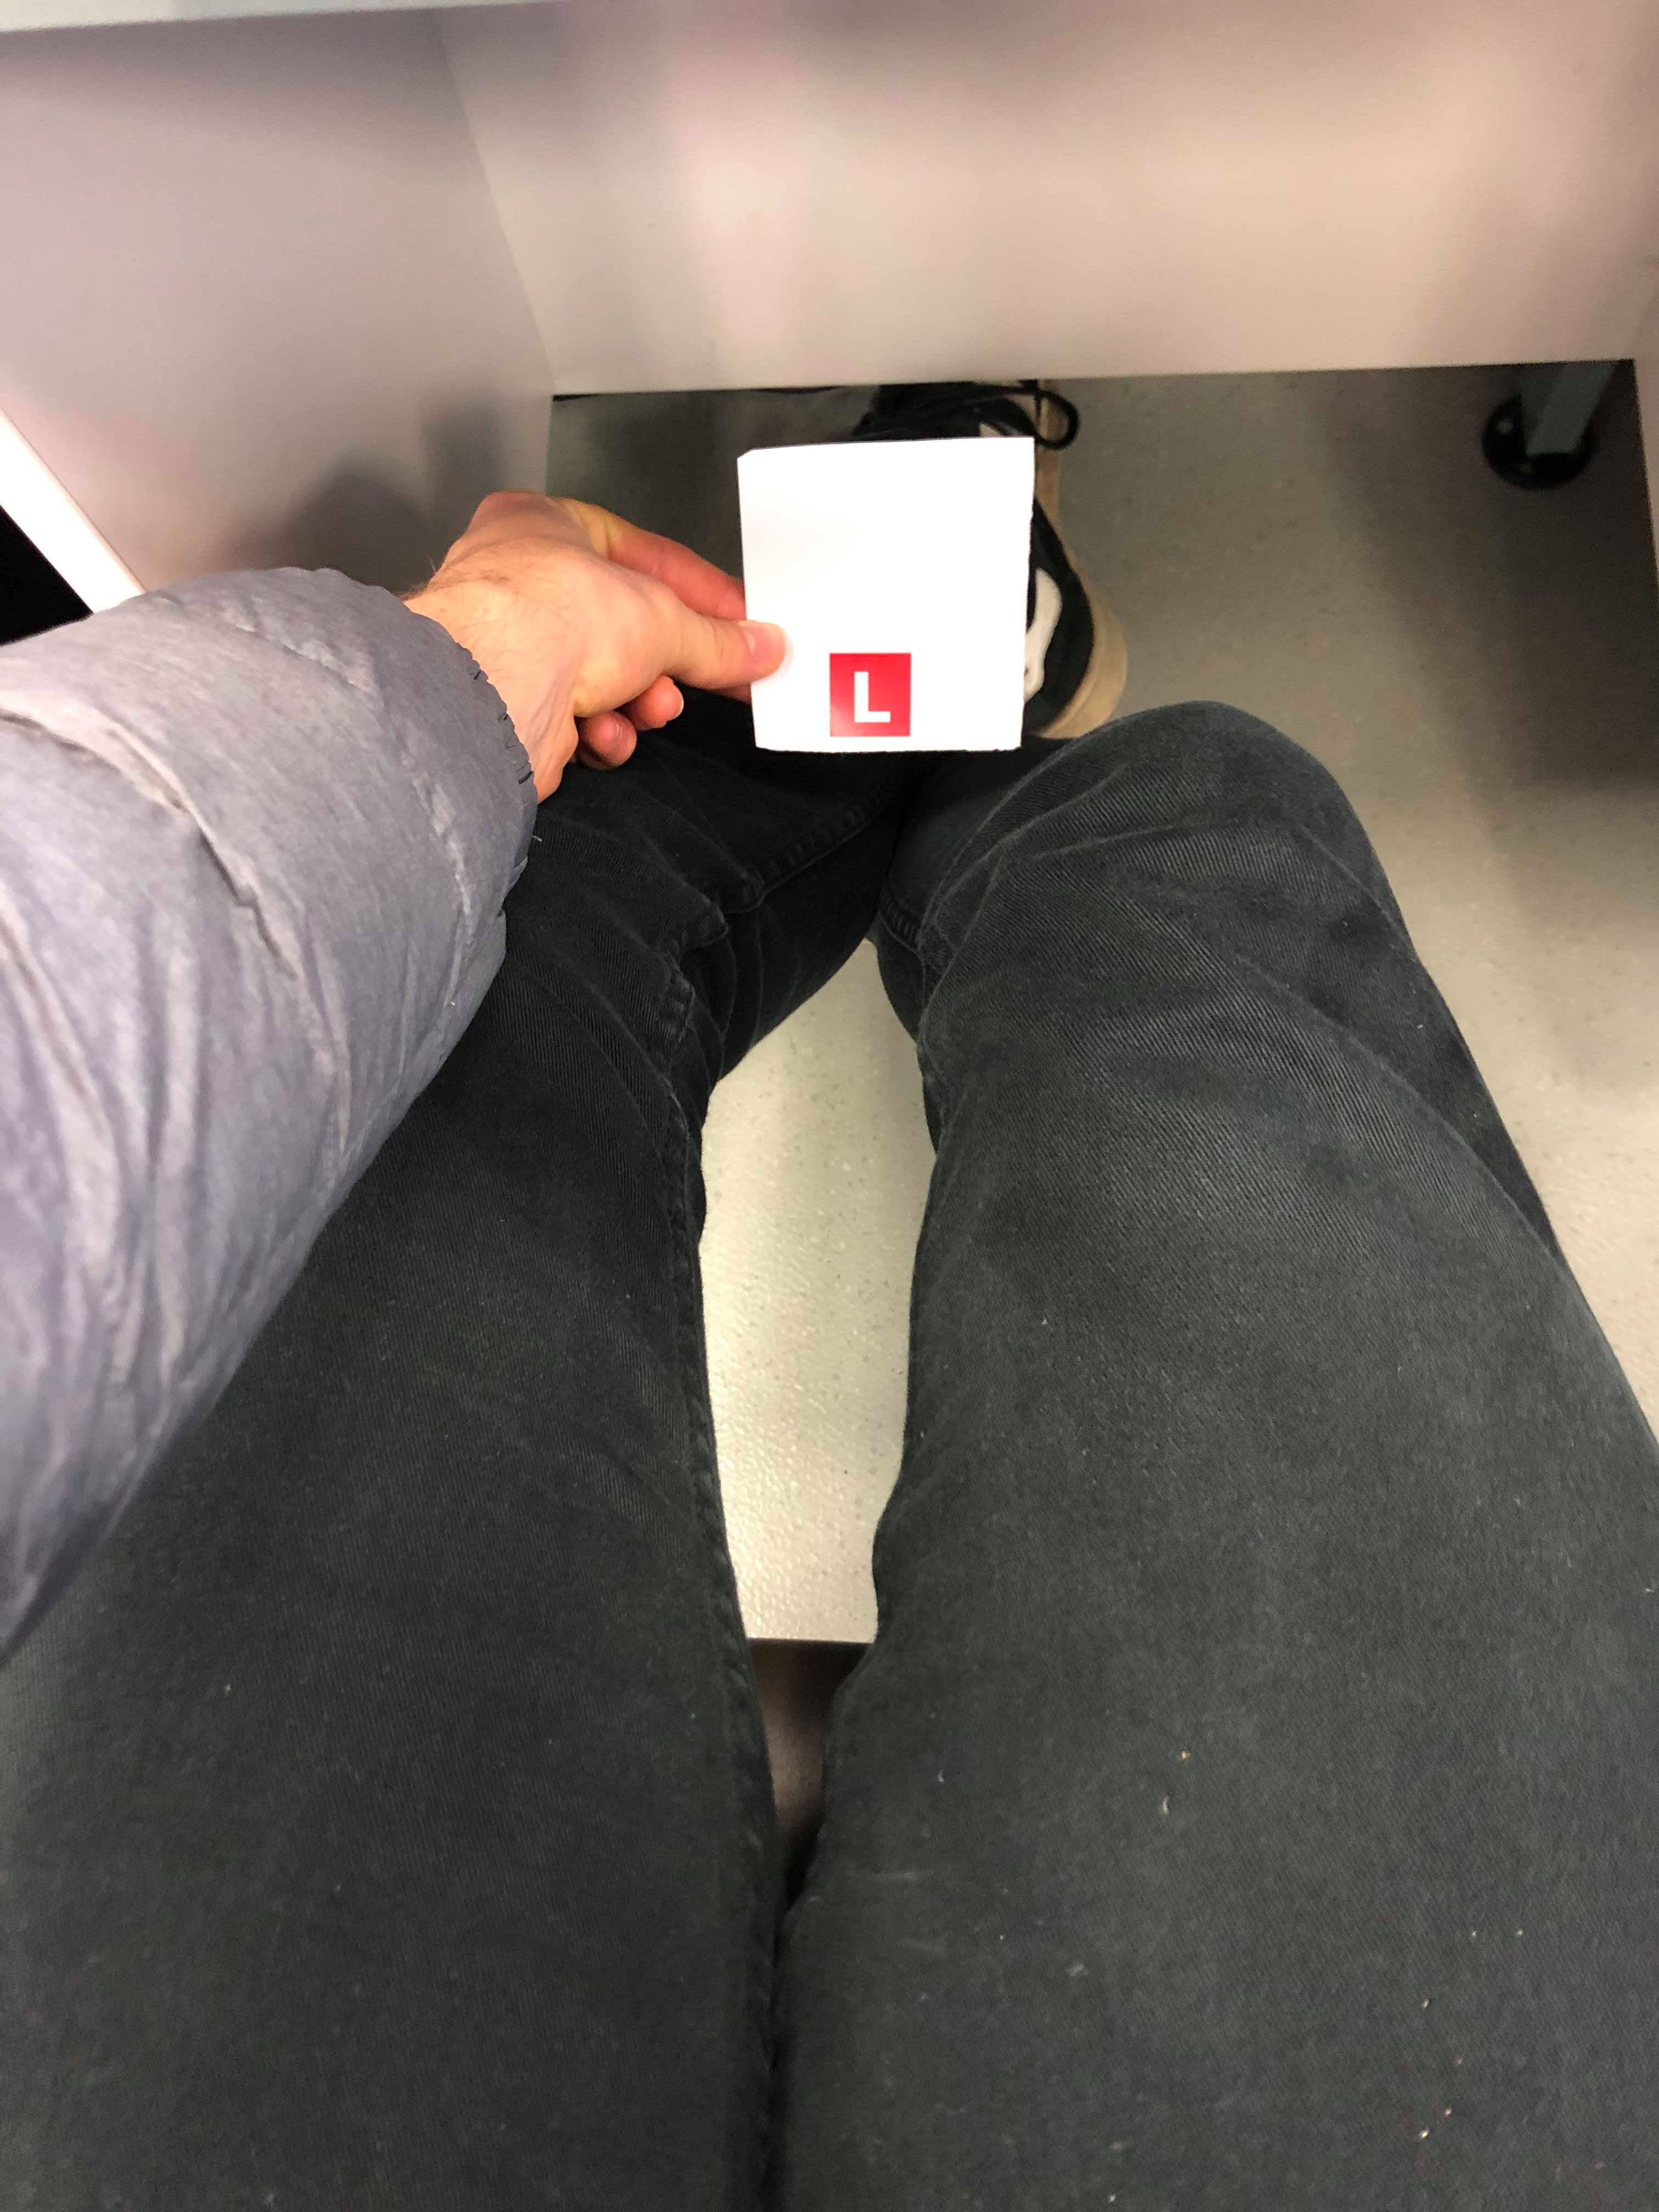marker: (791, 624, 950, 766)
